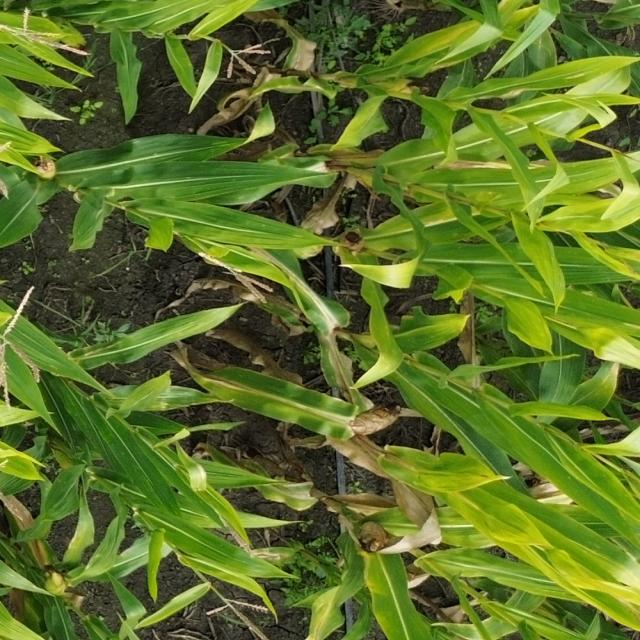gray-leaf-spot: (172, 132, 230, 156), (145, 388, 195, 412), (556, 67, 603, 85)
northern-leaf-blight: (265, 250, 345, 344), (216, 368, 302, 408), (15, 520, 58, 564), (260, 475, 315, 508), (301, 604, 344, 640)
